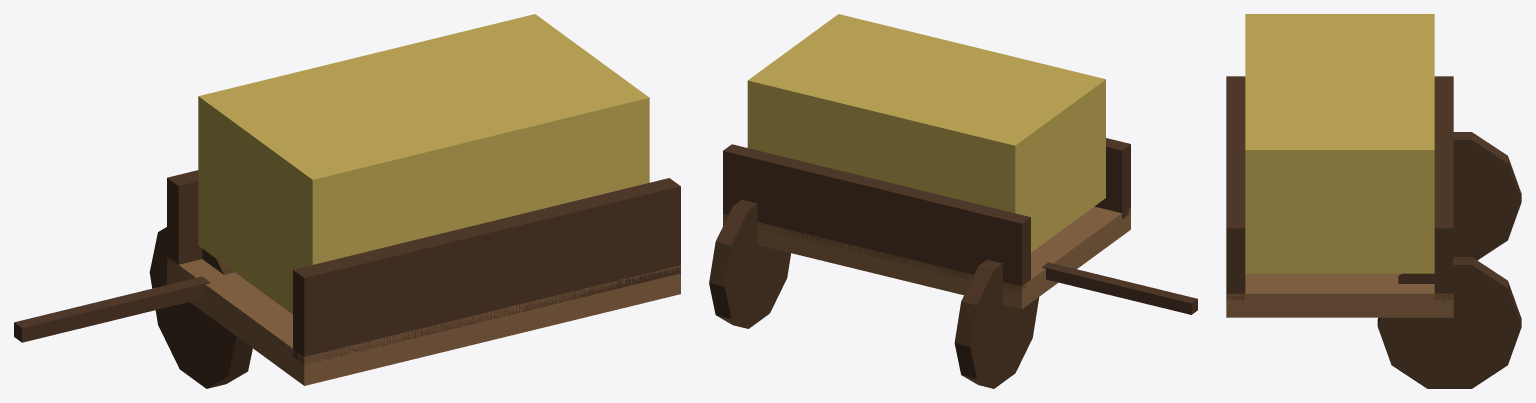
Rendered from prop_haycart.glb.
3 views of the same model, side by side, from view 1: azimuth 30°, elevation 25°; view 2: azimuth 150°, elevation 25°; view 3: azimuth 270°, elevation 25° (orthographic). The views are drawn at different scales.
Visible parts, largest first — view 1: prop_haycart; view 2: prop_haycart; view 3: prop_haycart.
Part boxes in pixels (x1,y1,x2,y2): prop_haycart: [14, 14, 680, 388]; prop_haycart: [709, 14, 1197, 388]; prop_haycart: [1226, 14, 1521, 388].
Size of the model in its own units: 2.82 by 1.4 by 1.56.
